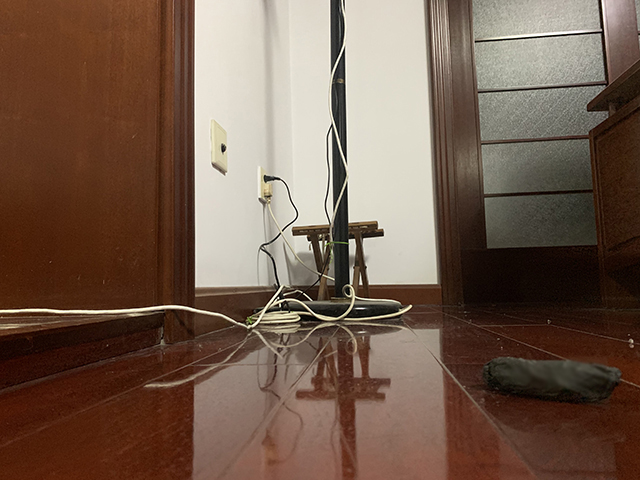feces: (482, 355, 623, 405)
stool: (291, 218, 386, 302)
wire: (1, 290, 417, 332), (259, 171, 324, 300)
